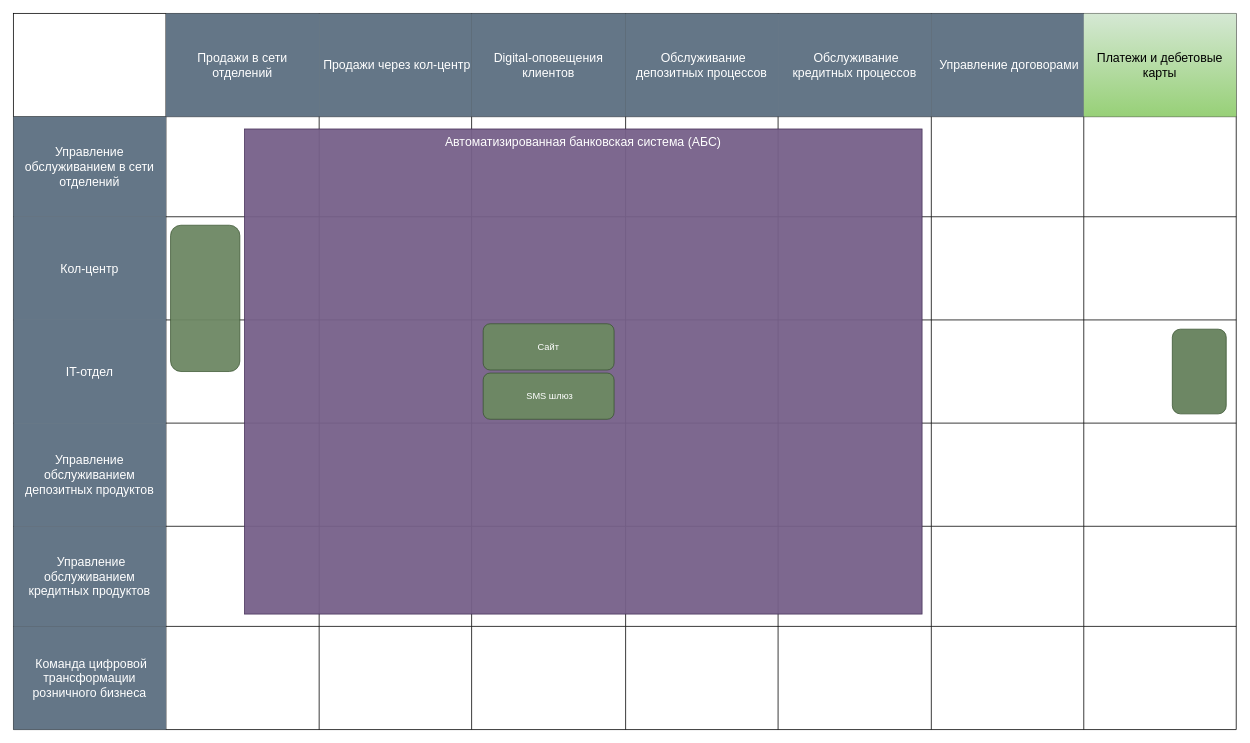
The diagram is 1250 pixels wide and 743 high, and some of its shapes have lost their labels. Here are the shapes that lost their labels. From the top down, the centre of each, then its label:
the point at 205,298: CRM кол-центра
the point at 1199,371: Интернет банк
